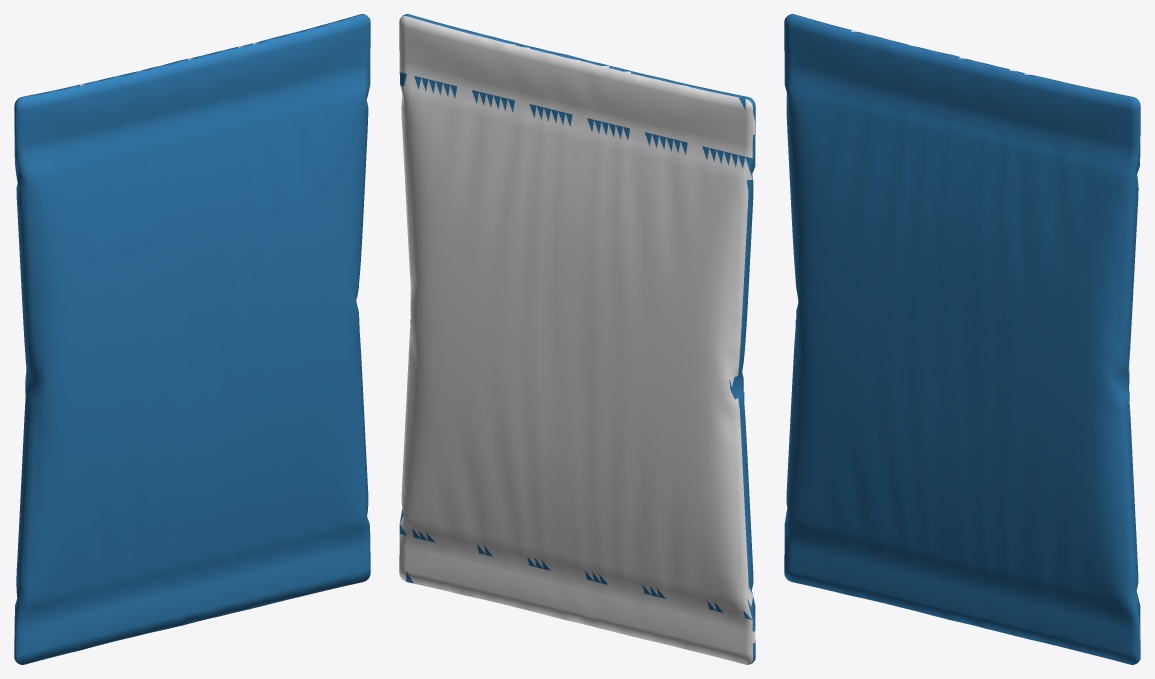
The model's file is booster.glb.
3 views of the same model, side by side, from view 1: azimuth 30°, elevation 25°; view 2: azimuth 150°, elevation 25°; view 3: azimuth 330°, elevation 25° (orthographic).
Visible parts, largest first — view 1: Booster Pack; view 2: Booster Pack; view 3: Booster Pack.
Boxes of the visible parts, <box> form: Booster Pack: <box>14,14,370,664</box>; Booster Pack: <box>399,14,755,664</box>; Booster Pack: <box>784,14,1140,664</box>.
Bounding box in the file's own units: 0.9183 × 1.4 × 0.1029.
